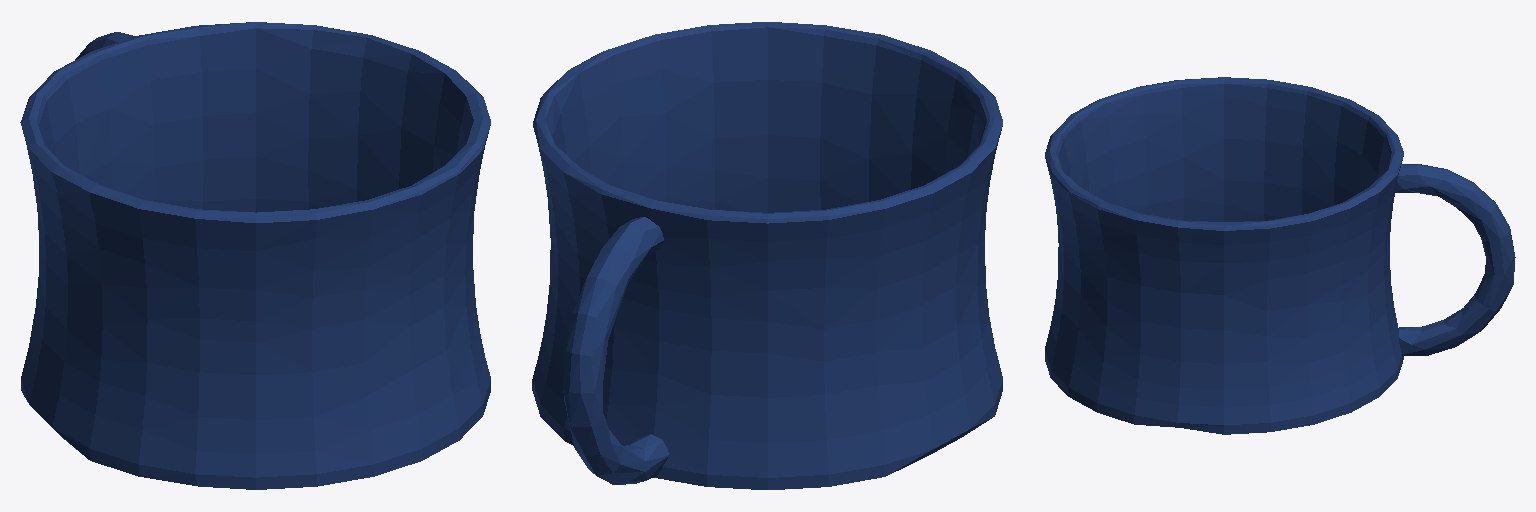
robot.urdf — design:
<?xml version="1.0"?>
<robot name="design">
  <material name="obj_color">
      <color rgba="0.2 0.3 0.5 1.0"/>
  </material>
  <link name="base">
    <visual>
      <origin xyz="0.0 0.0 0.0"/>
      <geometry>
        <mesh filename="model_empty_align.obj" scale="1 1 1"/>
      </geometry>
      <material name="obj_color"/>
    </visual>
    <collision>
      <origin xyz="0.0 0.0 0.0"/>
      <geometry>
        <mesh filename="model_empty_align.obj" scale="1 1 1"/>
      </geometry>
    </collision>
  </link>
</robot>

--- What the picture shows (computed from the rendered views, not written in the file) ---
The picture shows the robot from 3 angles, left to right: view 1: azimuth 30°, elevation 25°; view 2: azimuth 150°, elevation 25°; view 3: azimuth 270°, elevation 25°; orthographic projection.
Robot: design — 1 links, 0 joints (none); root link base; default pose: every joint at zero.
Visible links, largest first — view 1: base; view 2: base; view 3: base.
Link boxes in pixels (box(x1,y1,x2,y2)): base: box(20, 22, 490, 489); base: box(532, 22, 1002, 489); base: box(1045, 77, 1515, 434).
Bounding box of the posed robot: 0.0997 × 0.1306 × 0.0638 m (x, y, z).
Meshes: 1 distinct files referenced, 1 mesh visuals loaded (1 OBJ).
